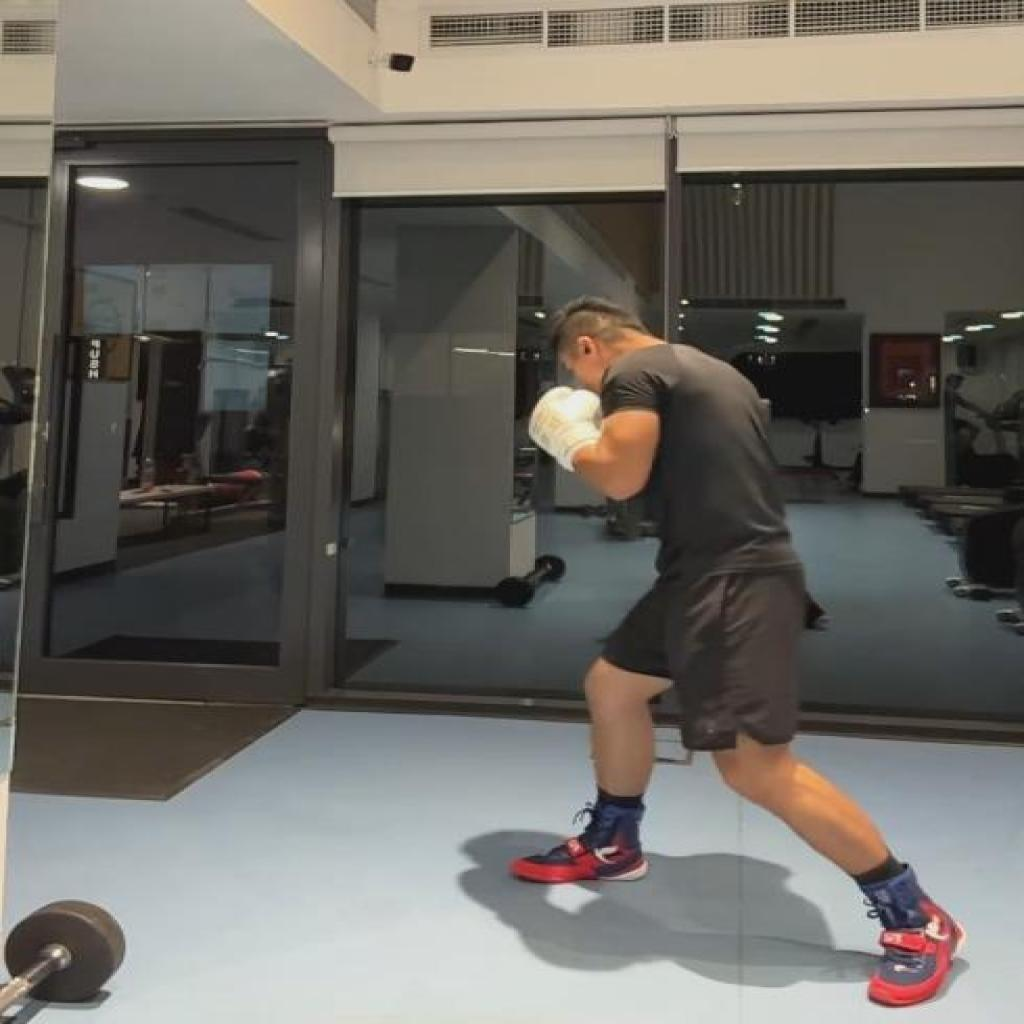no punch: (514, 290, 968, 1008)
